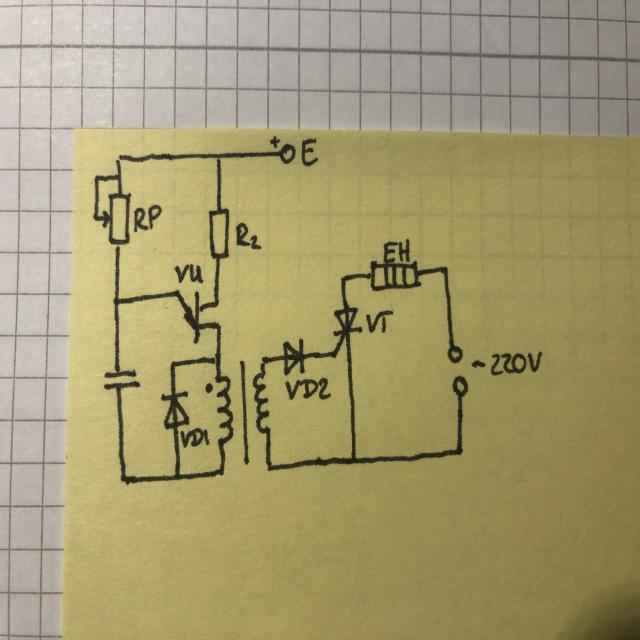capacitor: (100, 368, 140, 392)
diode: (158, 390, 190, 429), (280, 336, 306, 376)
junction: (112, 151, 126, 167), (211, 150, 225, 166), (111, 170, 125, 186), (215, 462, 229, 478), (110, 292, 123, 308), (116, 469, 129, 485), (171, 467, 184, 483), (210, 352, 223, 368), (166, 358, 179, 373), (453, 440, 465, 456), (267, 458, 279, 474), (210, 296, 222, 311), (337, 272, 349, 287), (212, 318, 223, 334), (439, 262, 450, 278), (259, 352, 270, 368), (91, 172, 101, 188), (347, 452, 358, 466), (91, 210, 100, 223)
resistor: (100, 192, 132, 246), (207, 207, 231, 261)
terminal: (450, 374, 470, 402), (277, 141, 298, 165), (446, 340, 465, 365)
text: (470, 349, 545, 376), (283, 374, 332, 402), (132, 202, 163, 233), (365, 308, 394, 337), (235, 221, 263, 251), (173, 262, 206, 287), (177, 425, 210, 448), (382, 237, 411, 263), (300, 136, 320, 168)
thyristor: (332, 305, 363, 358)
transformer: (203, 370, 274, 446)
transistor: (171, 287, 204, 346)
